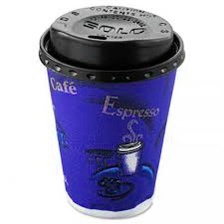paper_cup: (31, 0, 190, 224)
